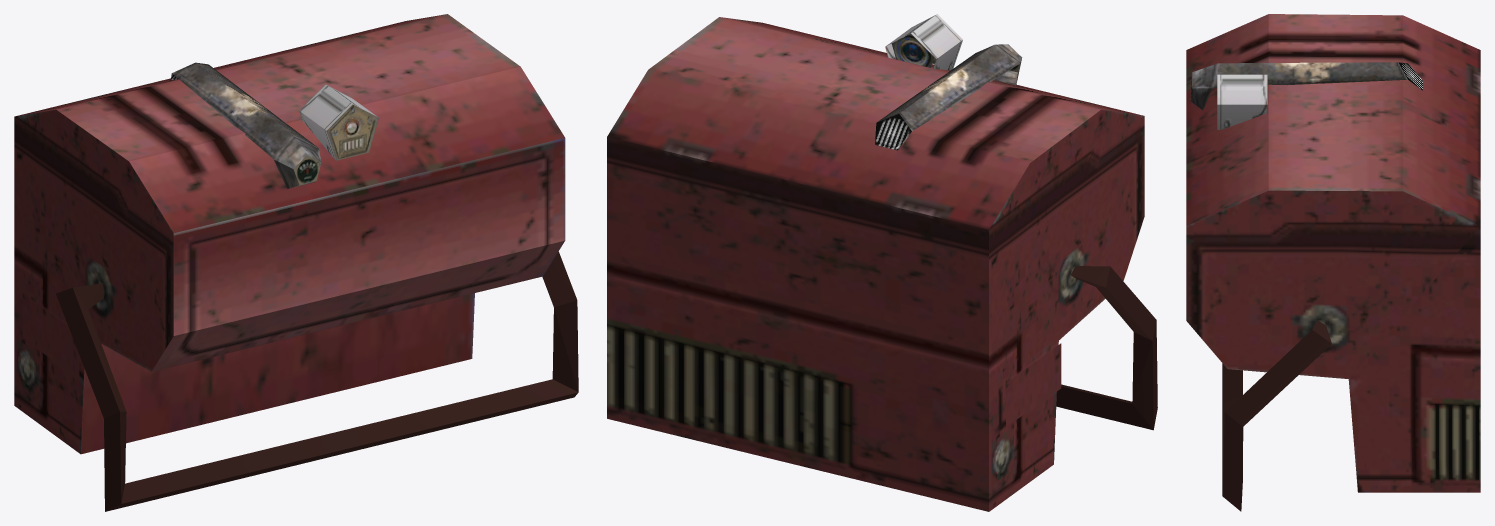
The model's file is eqp_cook_portable_stove_lg_s1_l1.fbx.
The picture shows the model from 3 angles, left to right: view 1: azimuth 30°, elevation 25°; view 2: azimuth 150°, elevation 25°; view 3: azimuth 270°, elevation 25°; orthographic projection. The views are drawn at different scales.
Visible parts, largest first — view 1: mesh_node; view 2: mesh_node; view 3: mesh_node.
Boxes of the visible parts, x1,y1,x2,y2 form: mesh_node: [14, 14, 578, 511]; mesh_node: [607, 14, 1157, 511]; mesh_node: [1186, 14, 1480, 511].
Size of the model in its own units: 1.1 by 0.8058 by 0.6474.
